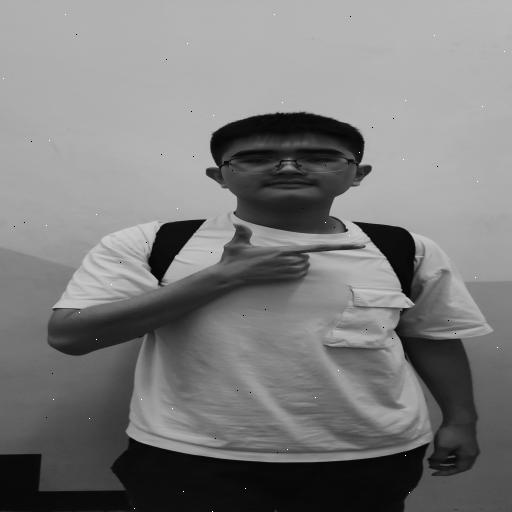next: (195, 218, 382, 292)
